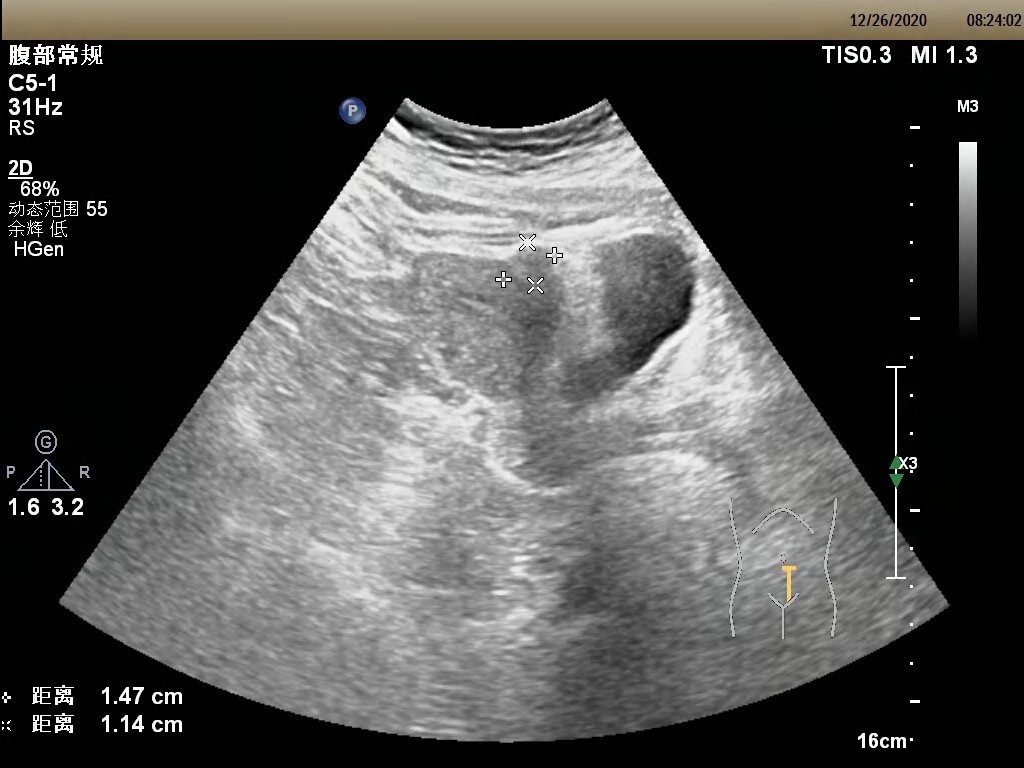肌瘤: (518, 247, 547, 286)
